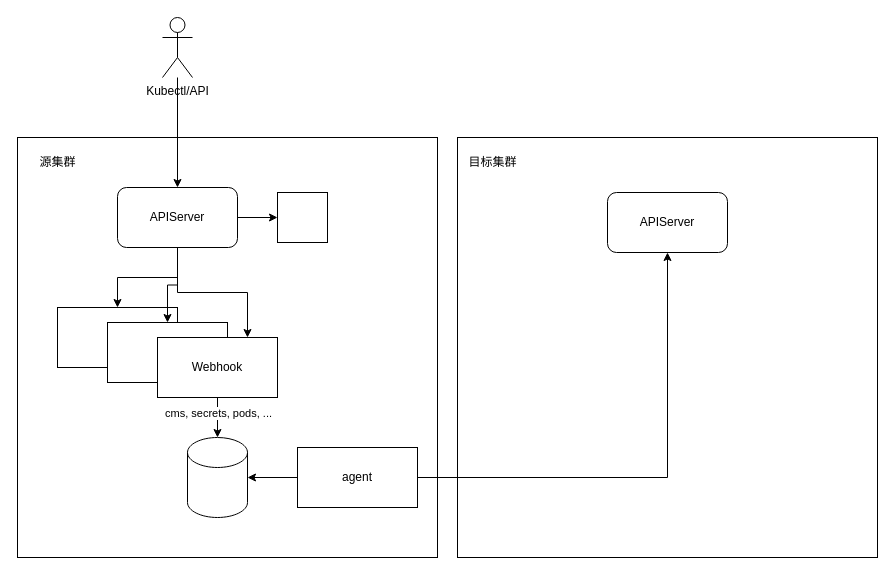
The diagram is 895 pixels wide and 575 high, and some of its shapes have lost their labels. Each missing label, with the box of its shape:
ETCD: (276, 192, 328, 242)
mq: (186, 436, 248, 518)
